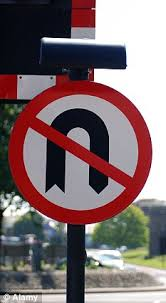No_u_turn: (9, 80, 152, 225)
